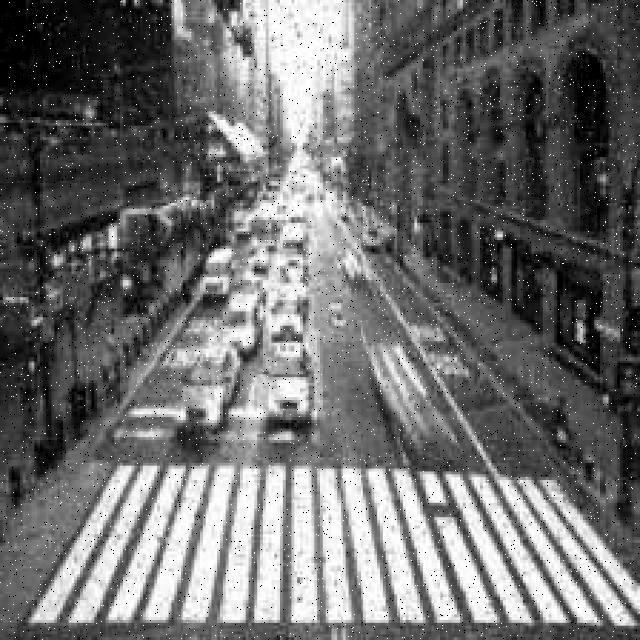crosswalk: (4, 450, 640, 640)
